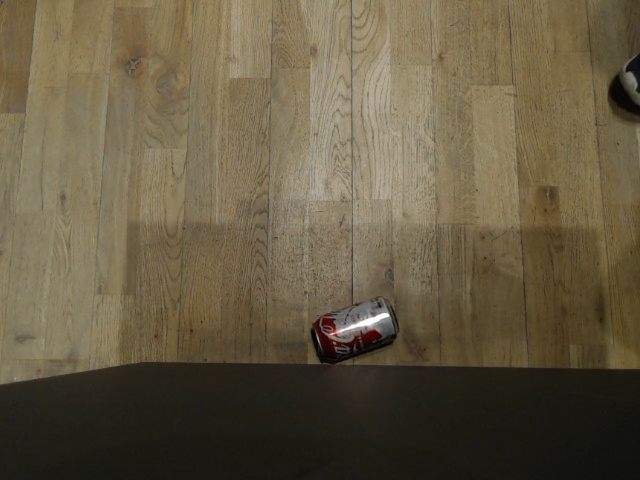cola: (310, 293, 402, 365)
